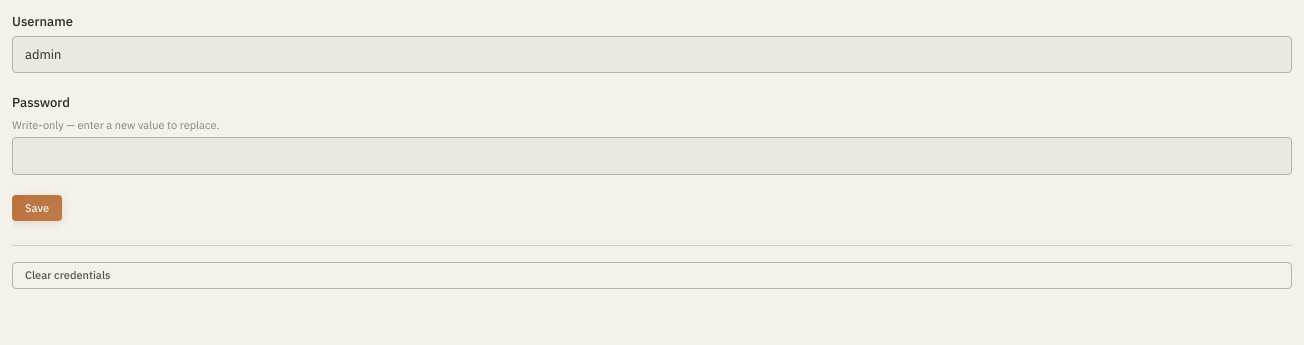
it: strategy: basic_auth › shows a validation error when password is empty
Step 1. Click the button "Save" → click(37, 208), box x1=12 y1=194 x2=62 y2=221
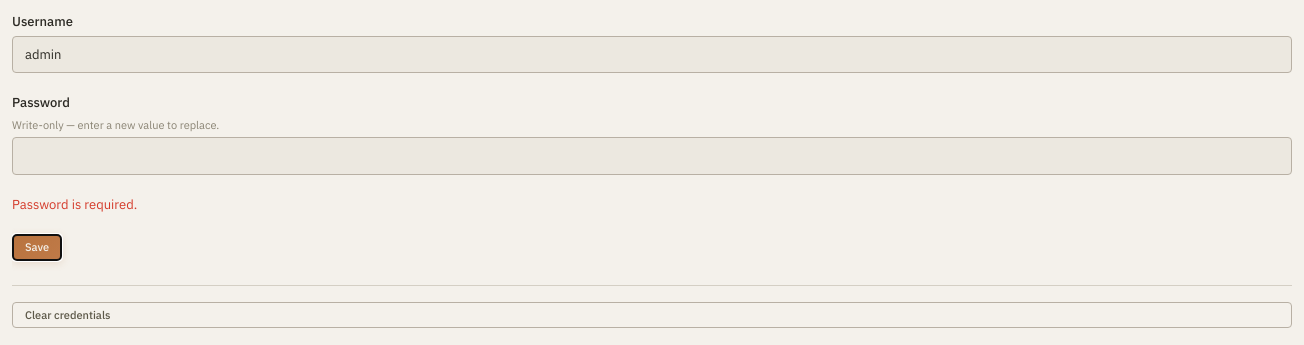
Result: the message shows "Password is required" at x1=12 y1=196 x2=137 y2=212
